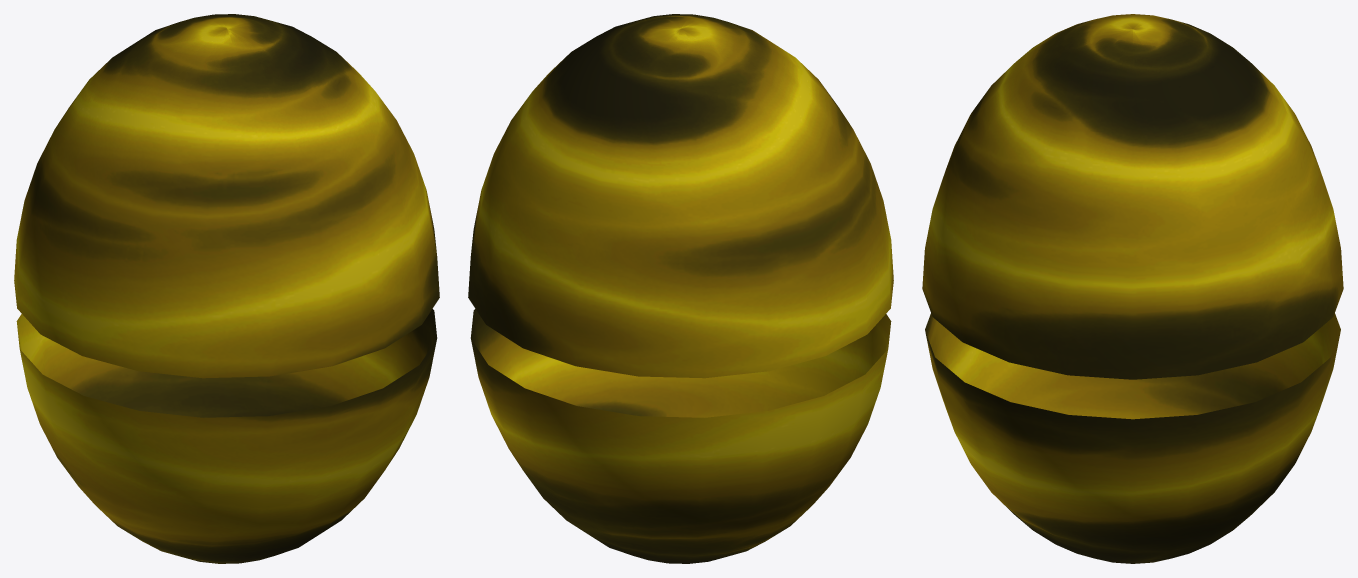
Rendered from armor pickup.fbx.
The picture shows the model from 3 angles, left to right: view 1: azimuth 30°, elevation 25°; view 2: azimuth 150°, elevation 25°; view 3: azimuth 270°, elevation 25°; orthographic projection.
Parts seen in each view (by area): view 1: Untitled:pSphere2; view 2: Untitled:pSphere2; view 3: Untitled:pSphere2.
Part boxes in pixels (<box>): Untitled:pSphere2: <box>14,14,439,563</box>; Untitled:pSphere2: <box>468,14,893,563</box>; Untitled:pSphere2: <box>922,14,1343,563</box>.
Bounding box in the file's own units: 3.26 × 4.34 × 3.19.
